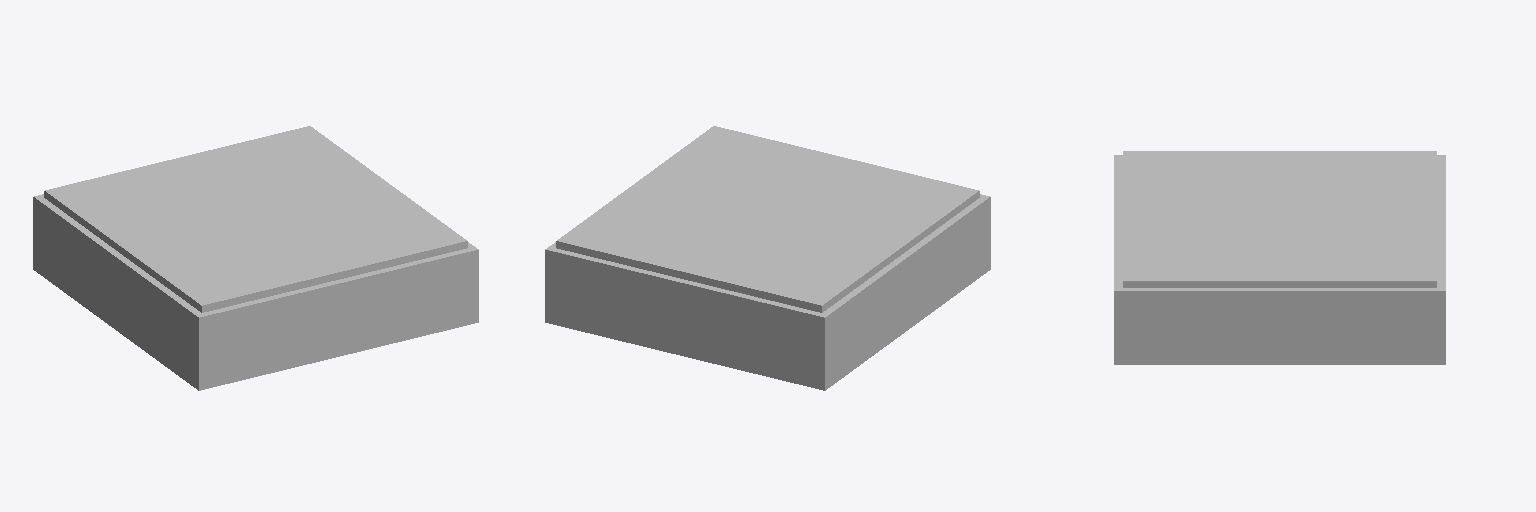
Rendered from SalaGrande.obj.
The picture shows the model from 3 angles: view 1: azimuth 30°, elevation 25°; view 2: azimuth 150°, elevation 25°; view 3: azimuth 270°, elevation 25°; orthographic projection.
Visible parts, largest first — view 1: Teto, WestWall, NorthWall; view 2: Teto, EastWall, NorthWall; view 3: Teto, SouthWall, WestWall, EastWall.
Boxes of the visible parts, <box> form: Teto: <box>44,126,467,312</box>; WestWall: <box>195,247,478,390</box>; NorthWall: <box>37,198,200,387</box>; Teto: <box>556,126,979,312</box>; EastWall: <box>545,247,828,390</box>; NorthWall: <box>823,198,986,387</box>; Teto: <box>1123,151,1436,287</box>; SouthWall: <box>1123,288,1436,364</box>; WestWall: <box>1114,155,1122,364</box>; EastWall: <box>1437,155,1445,364</box>.
Size of the model in its own units: 80 by 22 by 82.